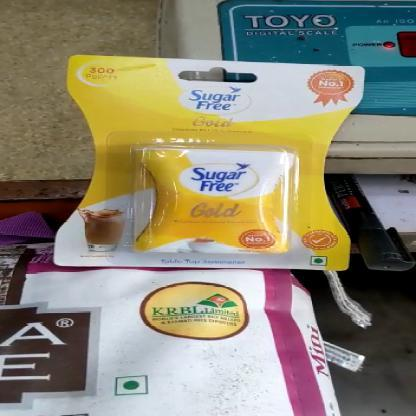SUGAR FREE GOLD 500 PELLET: (57, 55, 351, 268)
